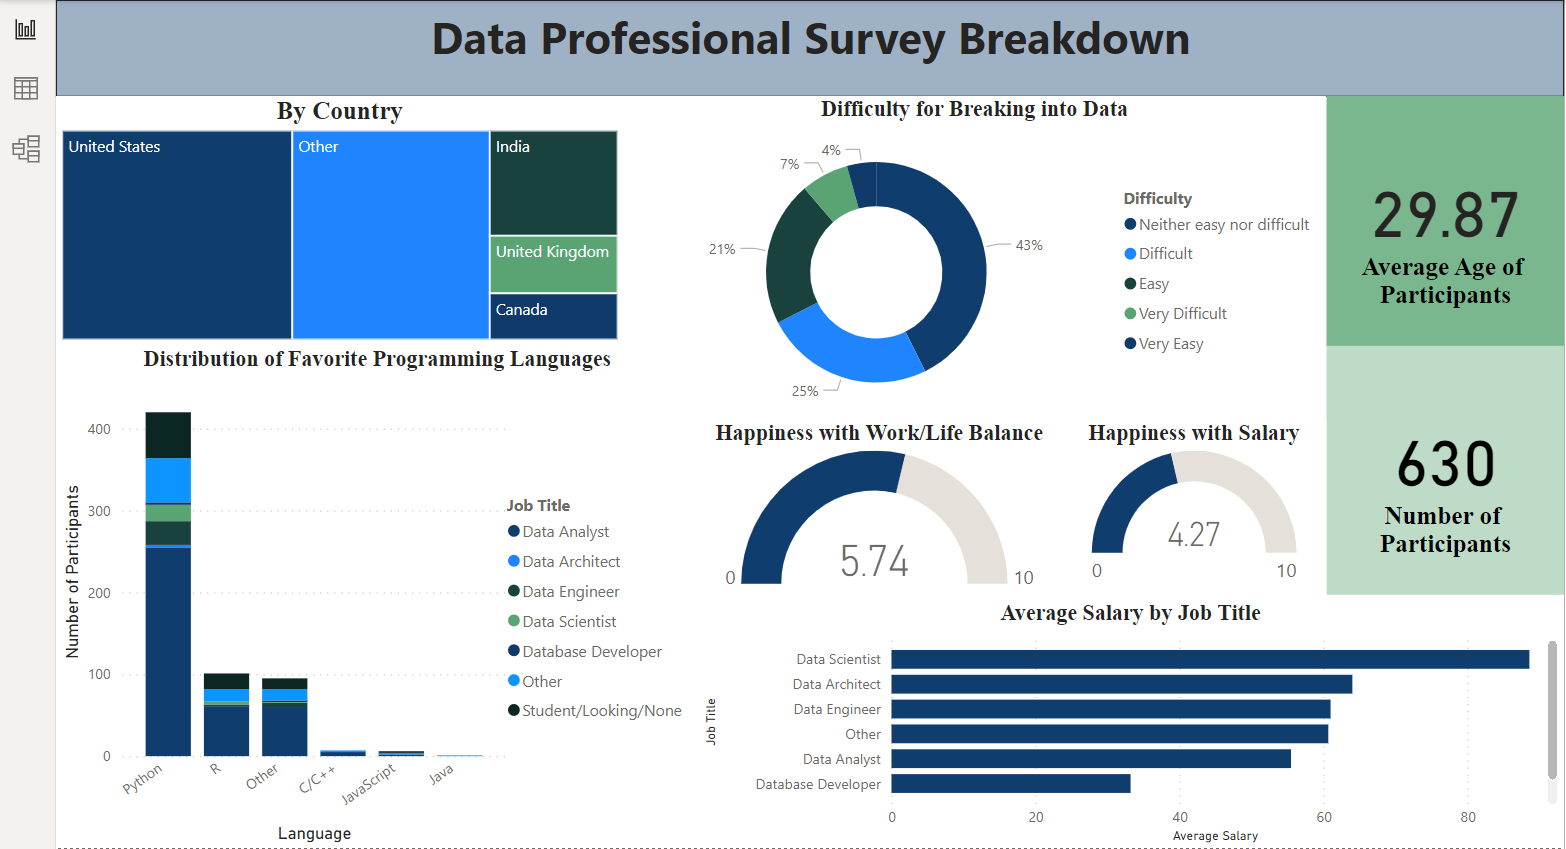

The dashboard page shown, as its layout file describes it:
{"tool":"powerbi","page":{"name":"Page 1","canvas":[1280,720],"ordinal":0},"visuals":[{"type":"textbox","box":[0,0,1280,81.7],"z":0},{"type":"card","title":"Number of Surveyer","fields":{"Values":["Count(Data Professional Survey.Unique ID)"]},"box":[1078.3,293.3,201.7,211.7],"z":1000},{"type":"card","fields":{"Values":["Avg(Data Professional Survey.Age)"]},"box":[1078.3,81.7,201.7,211.7],"z":2000},{"type":"barChart","fields":{"Y":["Avg(Data Professional Survey.Average Salary)"],"Category":["Data Professional Survey.Job Title"]},"box":[545.6,508.9,734.4,211.1],"z":2001},{"type":"columnChart","title":"Distribution of Favorite Programming Languages","fields":{"Category":["Data Professional Survey.Favorite Programming Language"],"Y":["CountNonNull(Data Professional Survey.Unique ID)"],"Series":["Data Professional Survey.Job Title"]},"box":[0,294.4,545.6,425.6],"z":2002},{"type":"treemap","title":"By Country","fields":{"Values":["CountNonNull(Data Professional Survey.Country)"],"Group":["Data Professional Survey.Country"]},"box":[0,81.7,481.7,211.7],"z":2003},{"type":"gauge","title":"Happiness with Work/Life Balance","fields":{"Y":["Avg(Data Professional Survey.Happiness in Current Position with Work/Life Balance)"],"MinValue":["Min(Data Professional Survey.Happiness in Current Position with Work/Life Balance)"],"MaxValue":["Max(Data Professional Survey.Happiness in Current Position with Work/Life Balance)"]},"box":[545.6,356.7,307.8,148.9],"z":2004},{"type":"gauge","title":"Happiness with Salary","fields":{"Y":["Avg(Data Professional Survey.Happiness in Current Position with Salary)"],"MinValue":["Min(Data Professional Survey.Happiness in Current Position with Salary)"],"MaxValue":["Max(Data Professional Survey.Happiness in Current Position with Salary)"]},"box":[853.3,356.7,225.6,148.9],"z":2005},{"type":"donutChart","title":"Difficulty for Breaking into Data","fields":{"Category":["Data Professional Survey.Starting Data Difficulty"],"Y":["CountNonNull(Data Professional Survey.Starting Data Difficulty)"]},"box":[481.7,81.7,596.7,278.3],"z":2006}]}

Visuals, with their boxes on the page's 1280x720 design canvas (x1, y1, x2, y2). These are canvas units, not pixel positions in the 1566x849 screenshot, which may show the page scaled, cropped or inside an application window:
textbox: (0, 0, 1280, 82)
"Number of Surveyer" card: (1078, 293, 1280, 505)
card - Avg(Data Professional Survey.Age): (1078, 82, 1280, 293)
barChart - Avg(Data Professional Survey.Average Salary) x Data Professional Survey.Job Title: (546, 509, 1280, 720)
"Distribution of Favorite Programming Languages" columnChart: (0, 294, 546, 720)
"By Country" treemap: (0, 82, 482, 293)
"Happiness with Work/Life Balance" gauge: (546, 357, 853, 506)
"Happiness with Salary" gauge: (853, 357, 1079, 506)
"Difficulty for Breaking into Data" donutChart: (482, 82, 1078, 360)
